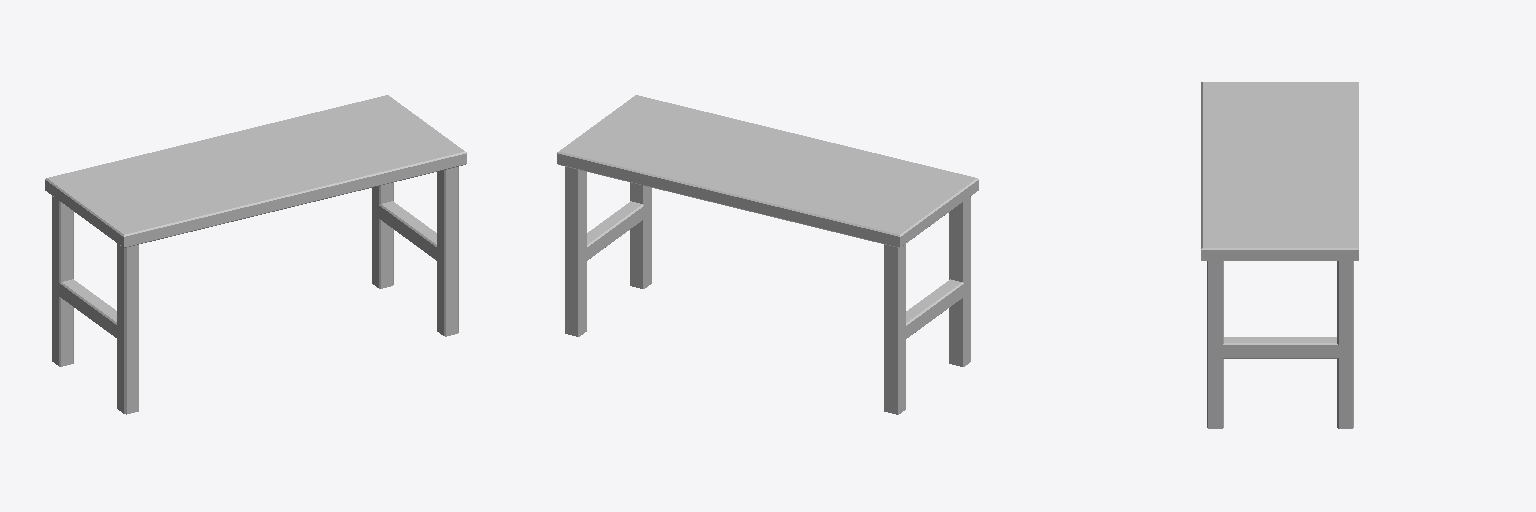
File: MESA 2.obj
The picture shows the model from 3 angles: view 1: azimuth 30°, elevation 25°; view 2: azimuth 150°, elevation 25°; view 3: azimuth 270°, elevation 25°; orthographic projection.
Parts seen in each view (by area): view 1: MESA_Tipo2; view 2: MESA_Tipo2; view 3: MESA_Tipo2.
Part boxes in pixels (x1,y1,x2,y2): MESA_Tipo2: (45,95,466,414); MESA_Tipo2: (557,95,978,414); MESA_Tipo2: (1201,82,1358,428).
Size of the model in its own units: 1.58 by 0.7983 by 0.6265.